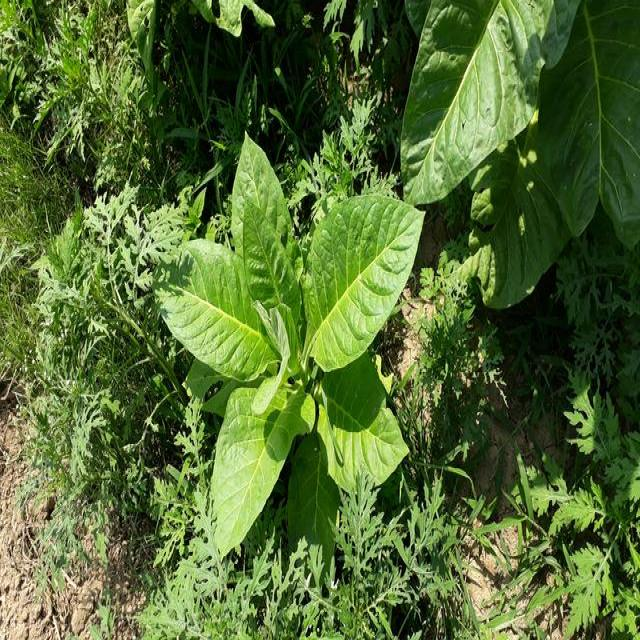crop: (166, 139, 426, 543), (416, 0, 640, 303)
